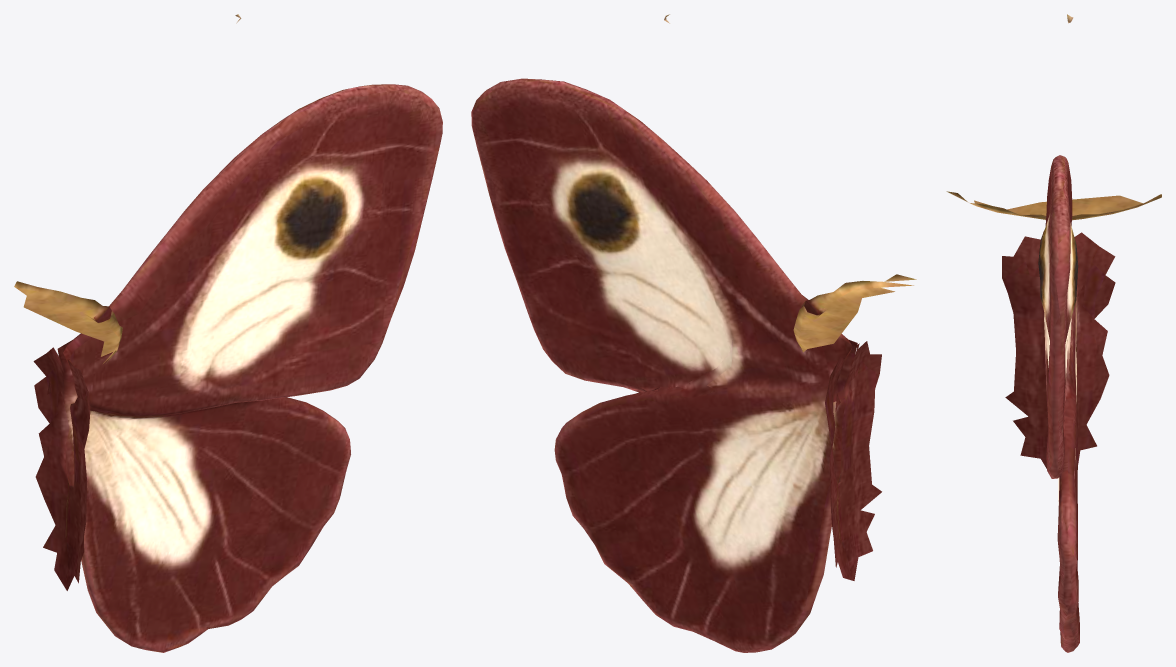
The model's file is hushwing-right.glb.
The picture shows the model from 3 angles, left to right: view 1: azimuth 30°, elevation 25°; view 2: azimuth 150°, elevation 25°; view 3: azimuth 270°, elevation 25°; orthographic projection. The views are drawn at different scales.
Visible parts, largest first — view 1: Mesh_0.001; view 2: Mesh_0.001; view 3: Mesh_0.001.
Boxes of the visible parts, x1,y1,x2,y2 form: Mesh_0.001: (14,14,442,652); Mesh_0.001: (471,14,916,652); Mesh_0.001: (946,14,1161,652).
Size of the model in its own units: 0.7028 by 1.06 by 0.3198.
1 material, 1 textured.
